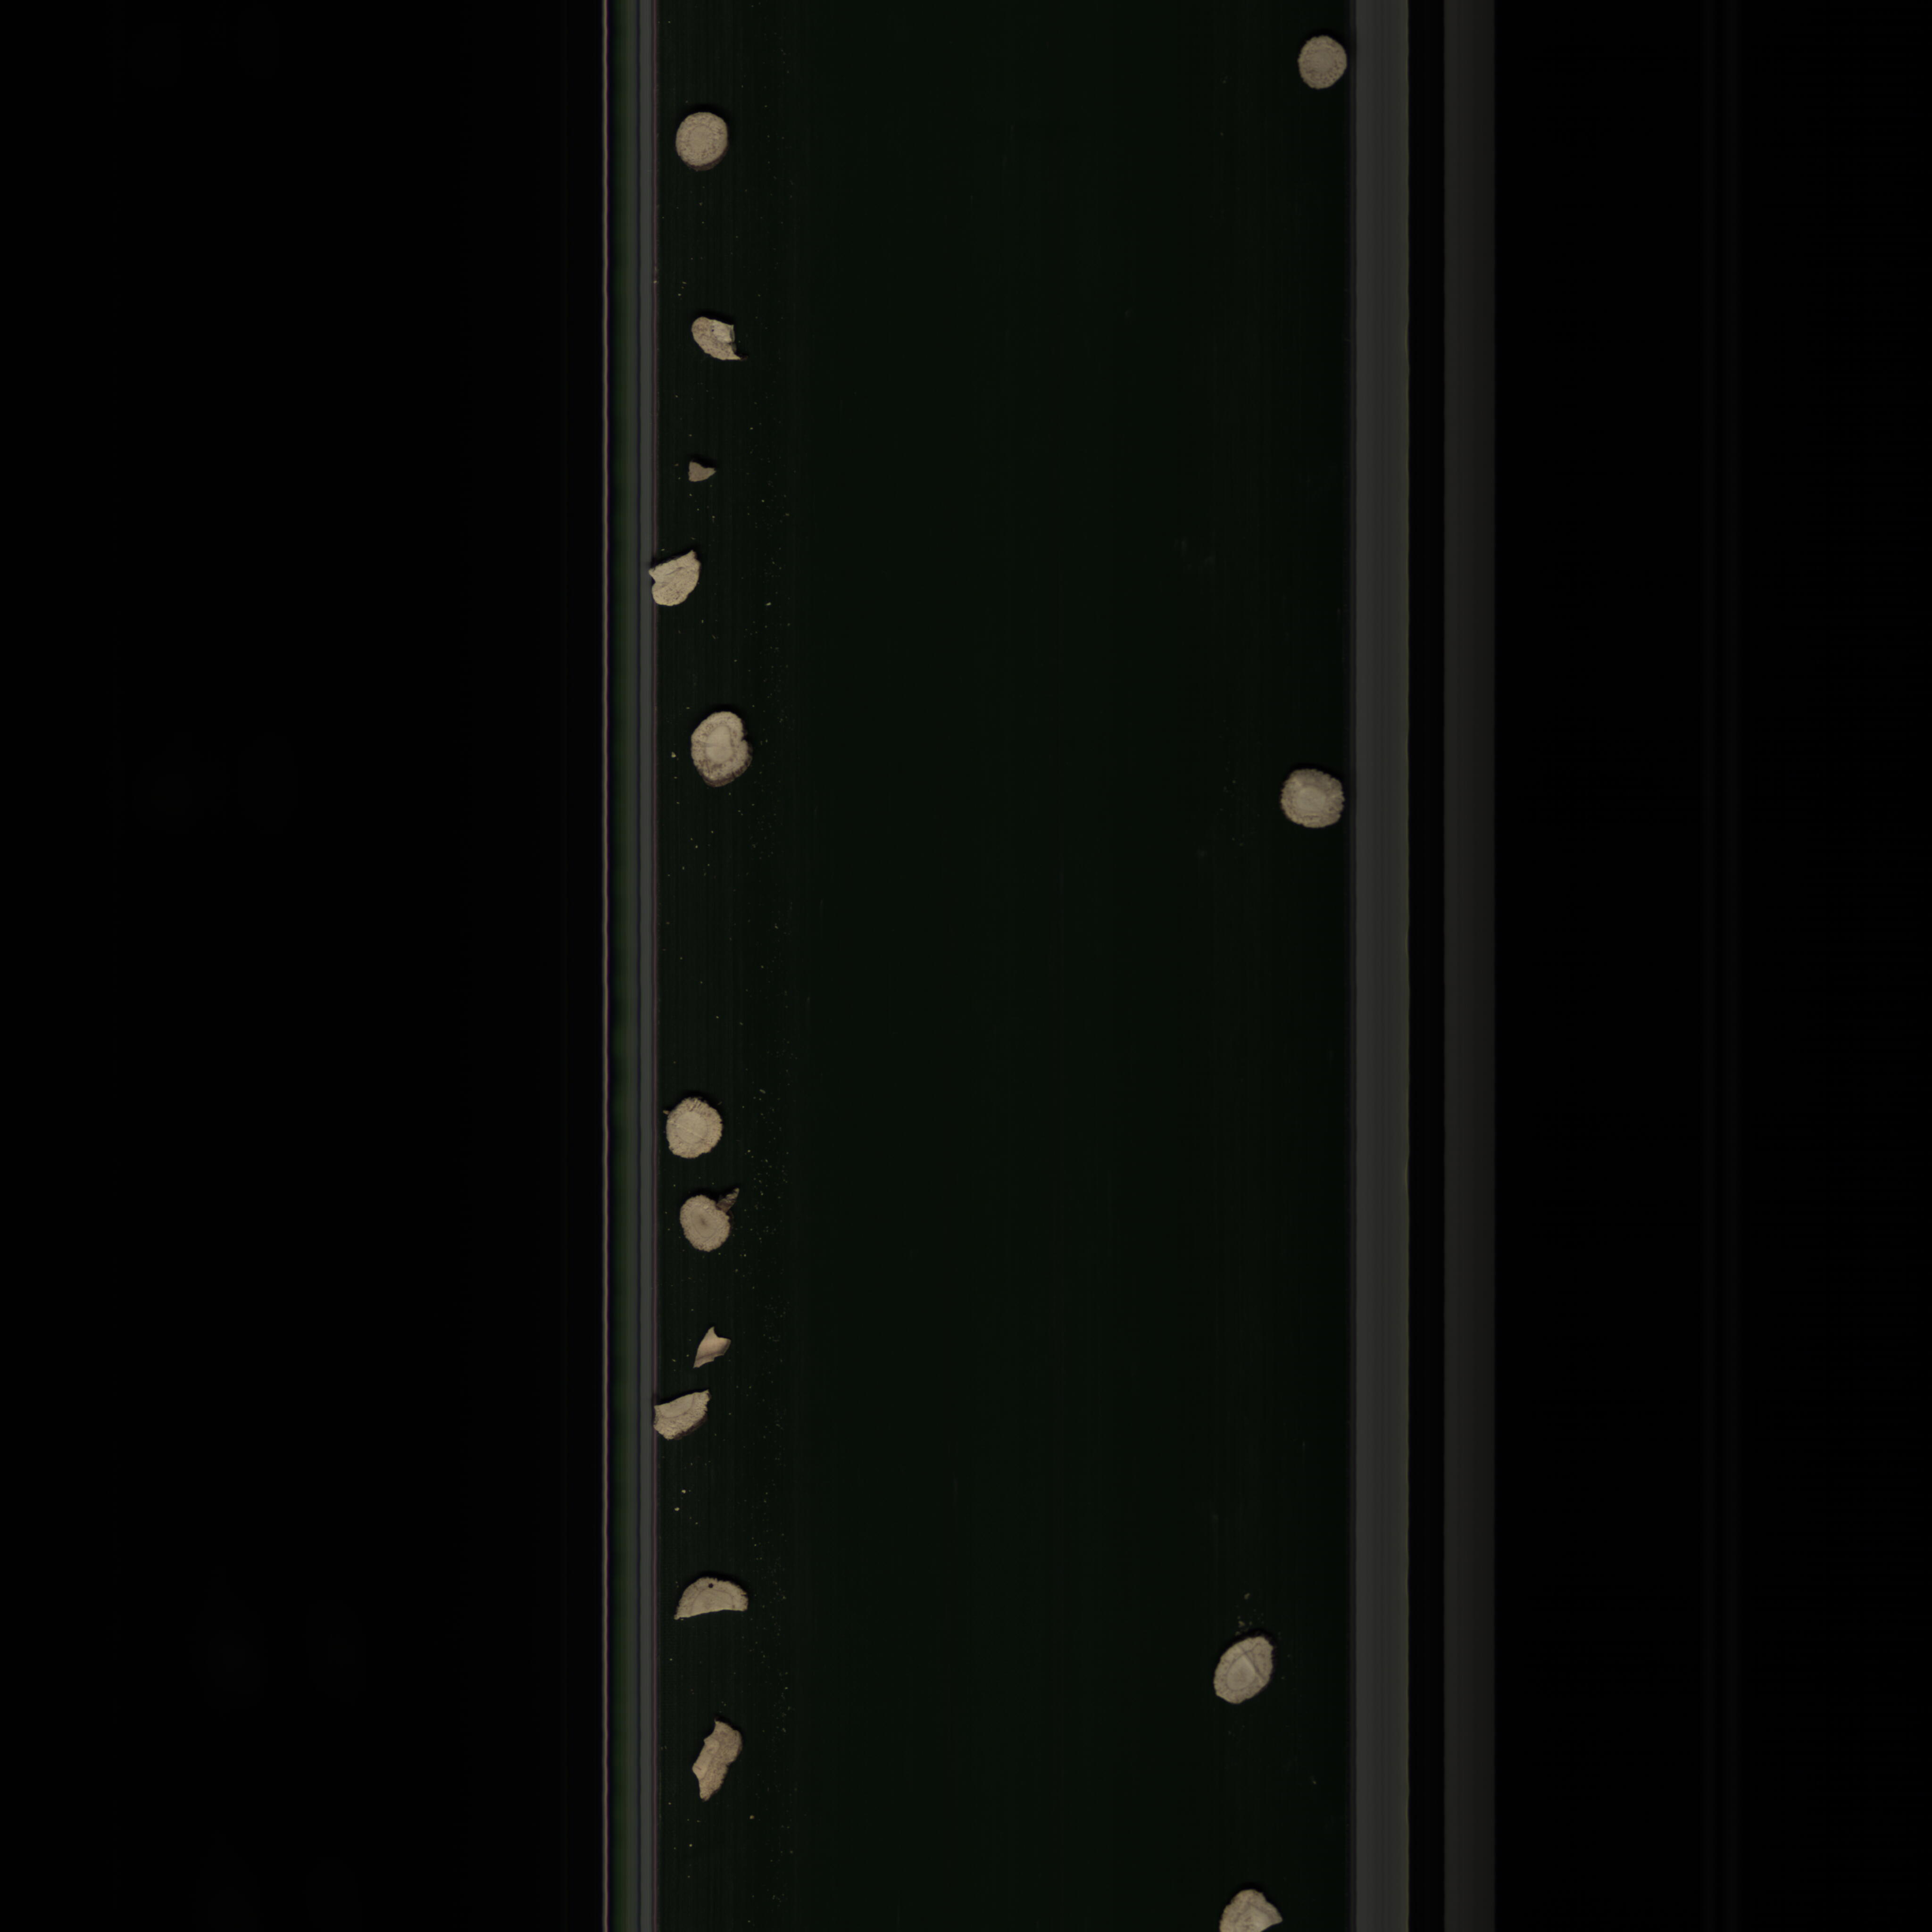debris: (685, 1709, 748, 1810), (671, 1568, 763, 1628), (640, 548, 717, 614), (678, 310, 754, 373), (649, 1387, 717, 1444), (690, 1325, 734, 1376), (683, 462, 720, 492)
